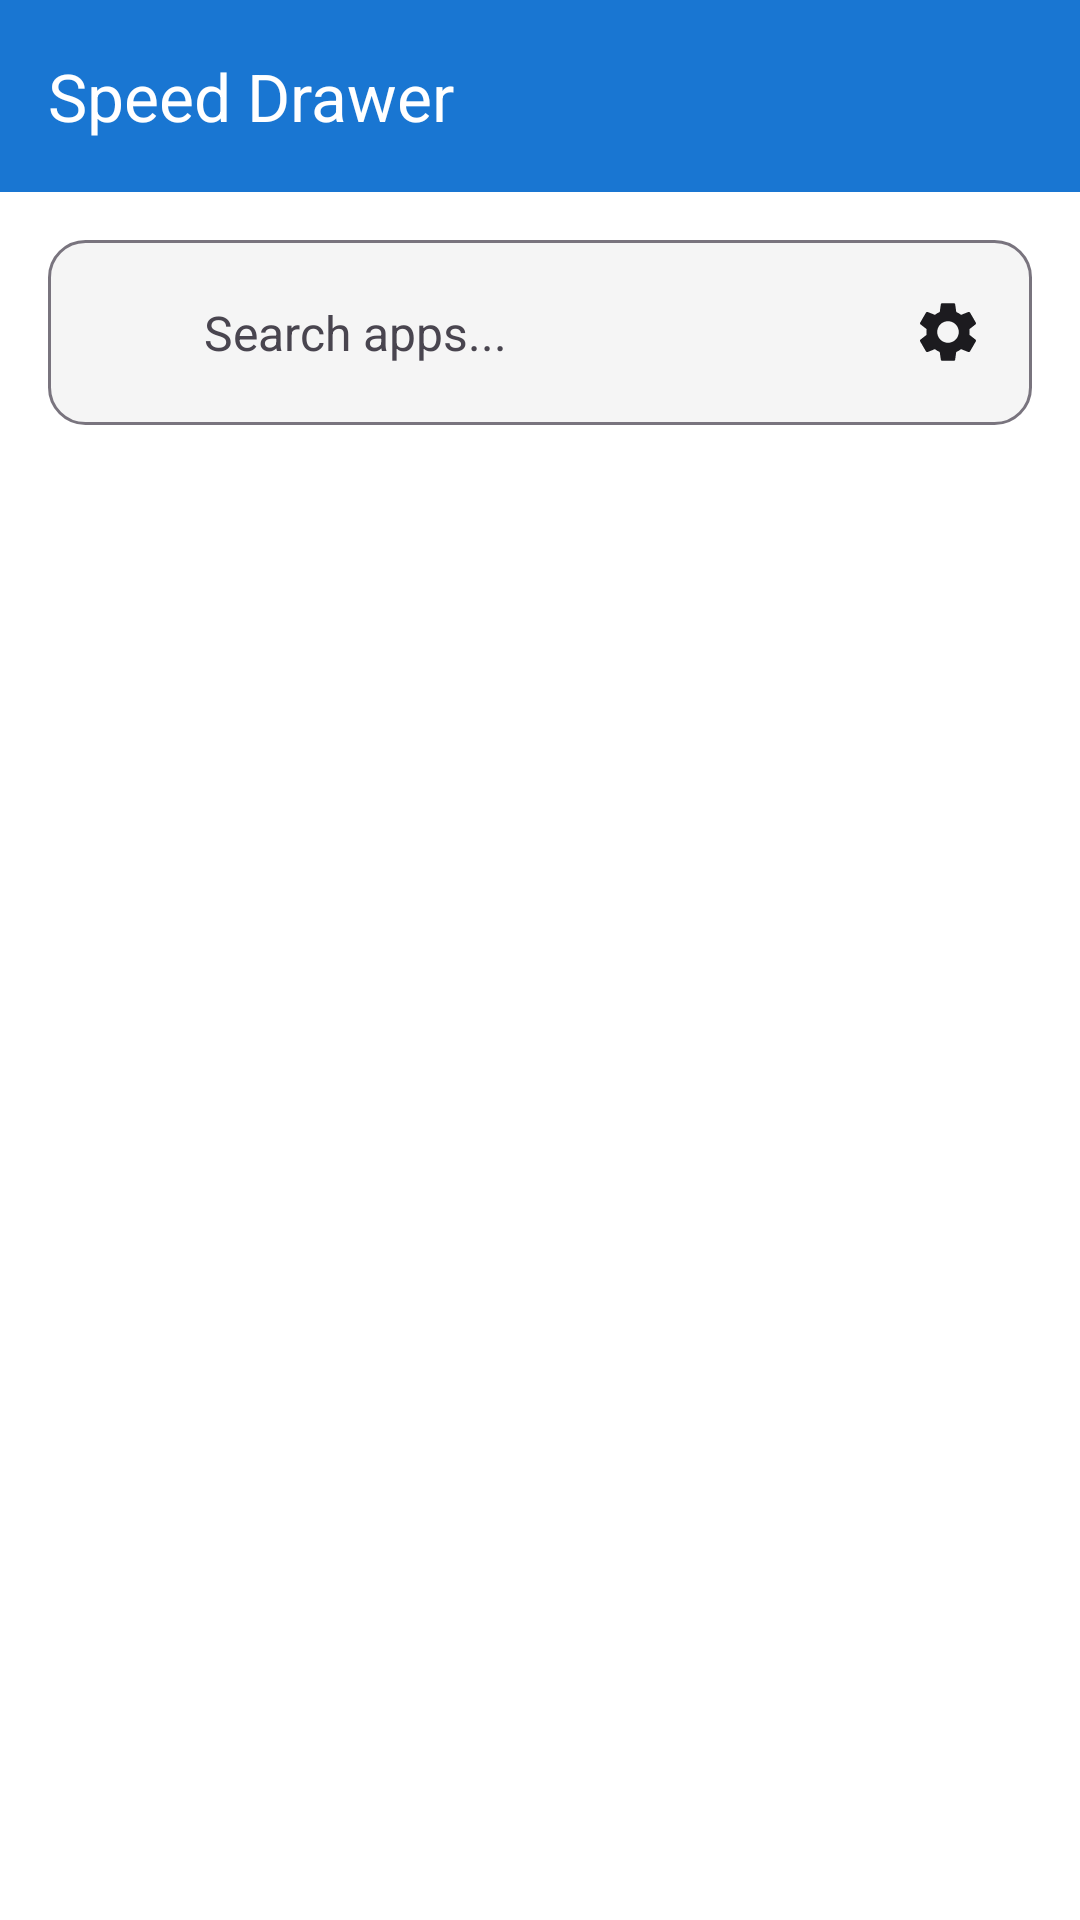

Screen size 1080px×1920px. Icon name, then its center in pixels as [x,y]:
Settings: [948,332]
